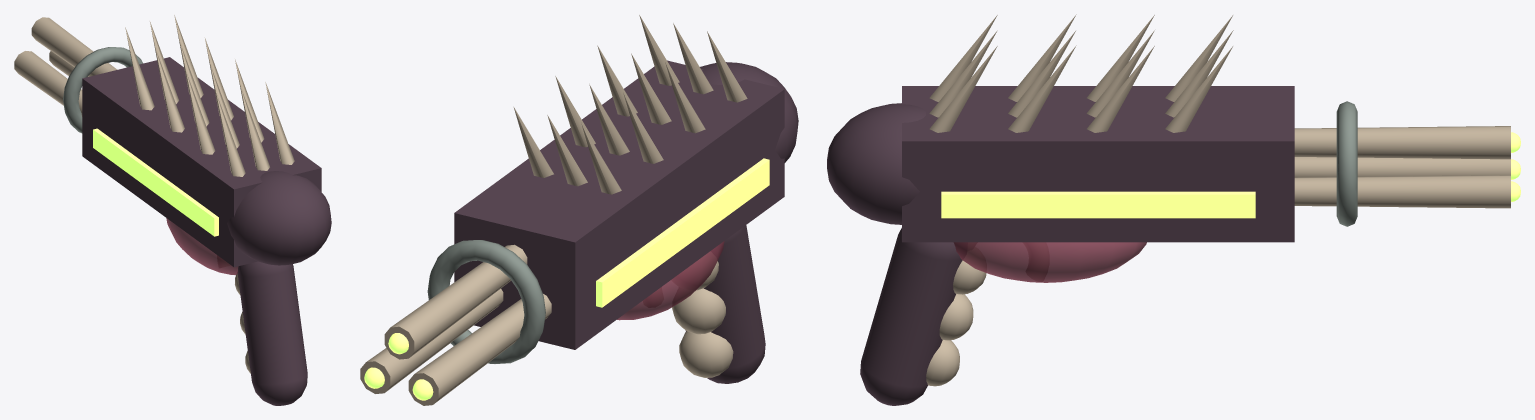
Rendered from grafted-brood-needler.glb.
The picture shows the model from 3 angles, left to right: view 1: azimuth 30°, elevation 25°; view 2: azimuth 150°, elevation 25°; view 3: azimuth 270°, elevation 25°; orthographic projection. The views are drawn at different scales.
Parts seen in each view (by area): view 1: hive_block, grip_shaft, hive_cap_rear, venom_vein_l, cluster_band, needle_tube_1, needle_tube_2, venom_bladder, quill_2, quill_3, quill_4, quill_7 (+9 smaller); view 2: hive_block, venom_vein_l, grip_shaft, cluster_band, needle_tube_1, needle_tube_2, needle_tube_3, venom_bladder, hive_cap_rear, knuckle_nub_3, knuckle_nub_2, quill_8 (+11 smaller); view 3: hive_block, grip_shaft, venom_vein_r, hive_cap_rear, needle_tube_3, needle_tube_1, venom_bladder, needle_tube_2, cluster_band, knuckle_nub_2, knuckle_nub_3, quill_6 (+12 smaller).
Part boxes in pixels (x1,y1,x2,y2): hive_block: [82, 57, 321, 267]; grip_shaft: [237, 261, 307, 405]; hive_cap_rear: [227, 171, 331, 265]; venom_vein_l: [93, 128, 218, 236]; cluster_band: [63, 47, 142, 133]; needle_tube_1: [31, 17, 117, 76]; needle_tube_2: [14, 51, 82, 116]; venom_bladder: [166, 218, 238, 275]; quill_2: [240, 87, 269, 170]; quill_3: [265, 82, 294, 164]; quill_4: [186, 71, 215, 154]; quill_7: [155, 49, 184, 132]; hive_block: [454, 60, 784, 349]; venom_vein_l: [596, 158, 769, 307]; grip_shaft: [685, 225, 765, 383]; cluster_band: [427, 240, 545, 363]; needle_tube_1: [384, 244, 527, 359]; needle_tube_2: [408, 294, 551, 405]; needle_tube_3: [360, 289, 503, 393]; venom_bladder: [617, 241, 724, 320]; hive_cap_rear: [700, 62, 798, 162]; knuckle_nub_3: [679, 331, 733, 377]; knuckle_nub_2: [672, 288, 725, 334]; quill_8: [589, 84, 629, 155]; hive_block: [902, 86, 1294, 242]; grip_shaft: [860, 228, 962, 405]; venom_vein_r: [941, 191, 1255, 218]; hive_cap_rear: [827, 103, 925, 224]; needle_tube_3: [1294, 175, 1510, 208]; needle_tube_1: [1294, 126, 1510, 159]; venom_bladder: [953, 242, 1146, 282]; needle_tube_2: [1294, 157, 1510, 177]; cluster_band: [1336, 101, 1357, 226]; knuckle_nub_2: [939, 294, 973, 340]; knuckle_nub_3: [926, 340, 959, 386]; quill_6: [1008, 45, 1076, 132].
Size of the model in its own units: 0.11 by 0.3143 by 0.5297.
